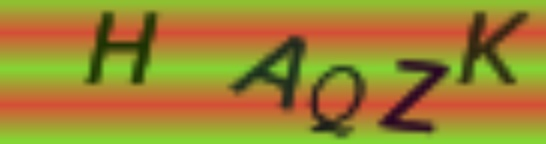A: (224, 31, 311, 108)
H: (85, 8, 163, 90)
K: (459, 7, 534, 87)
Q: (310, 61, 372, 136)
Z: (376, 56, 453, 135)
